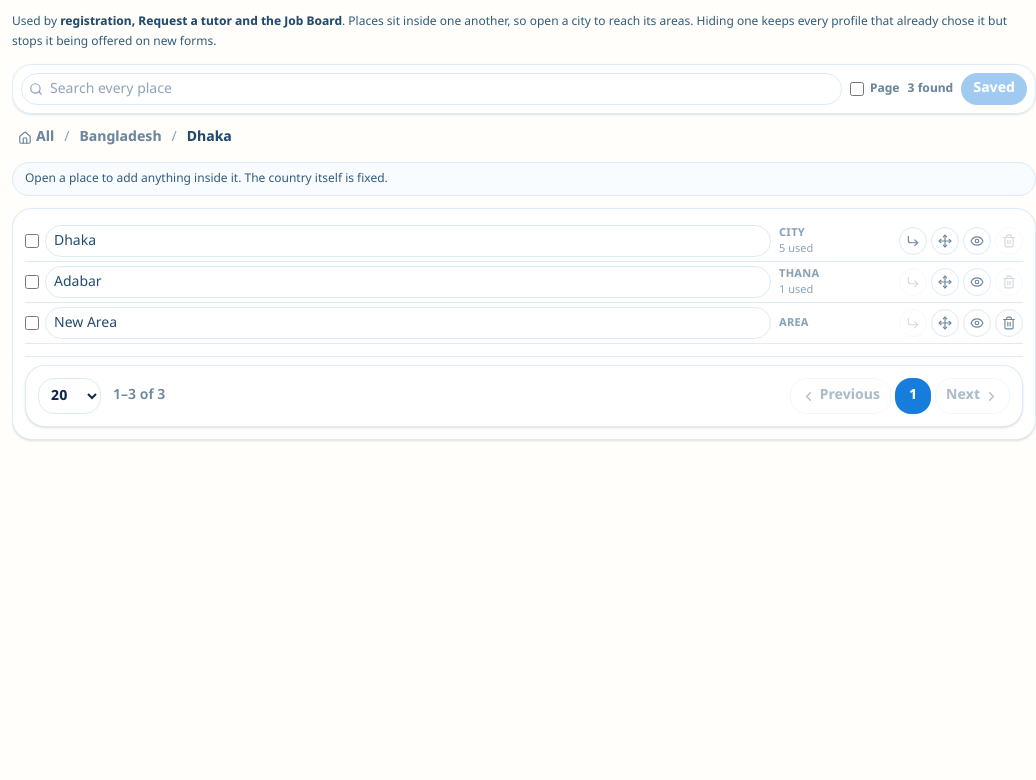
moving a place › will not drop a place into itself
Click the button named "Move Dhaka".
click(945, 241)  # box [931,227,959,255]
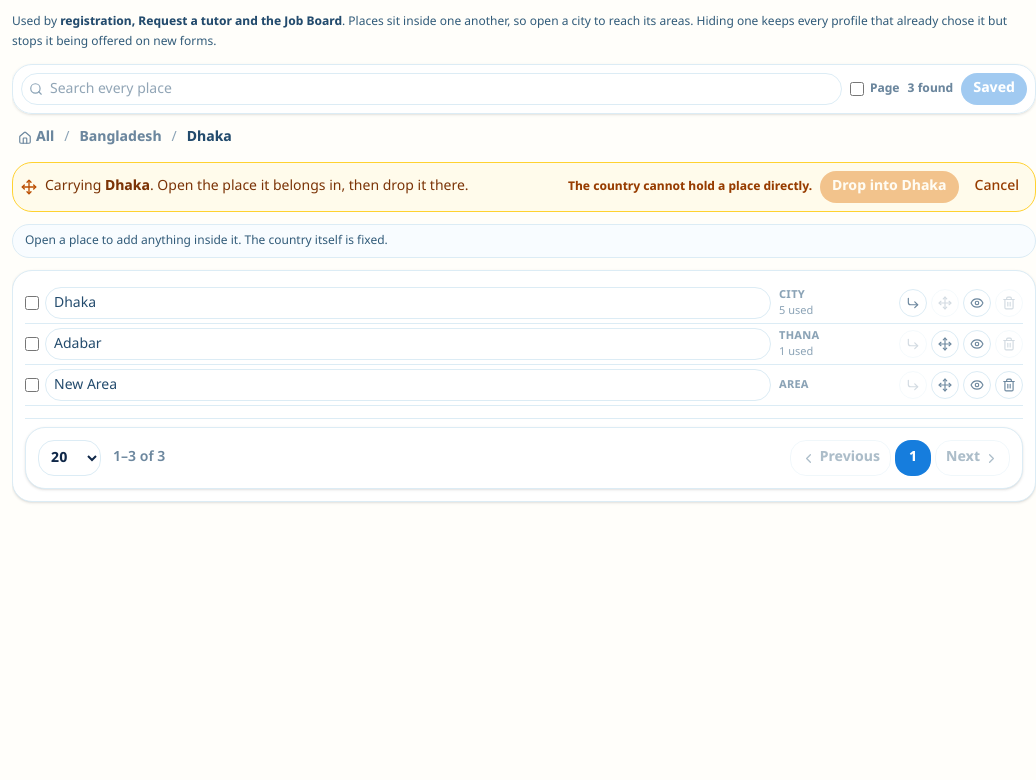
Click the button named "Open Dhaka".
click(913, 303)  # box [899,289,927,317]
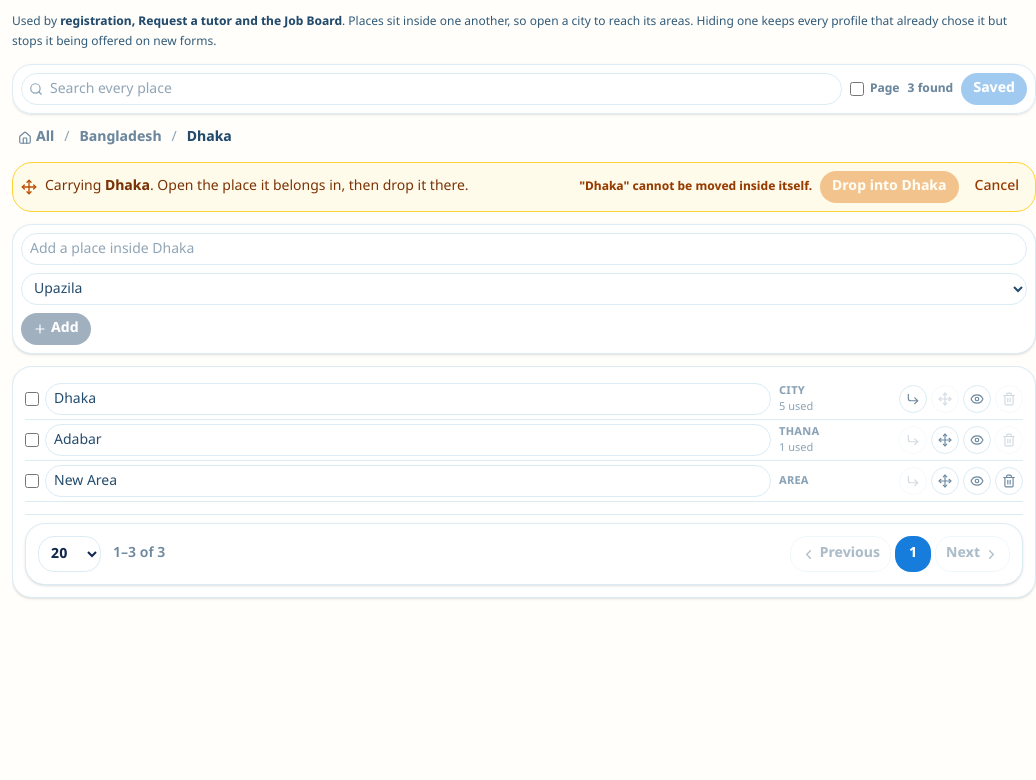
Expected: the button "Drop into Dhaka" is disabled, [820,171,958,203]
Expected: the text "\"Dhaka\" cannot be moved inside itself." is shown, [579,179,812,195]
